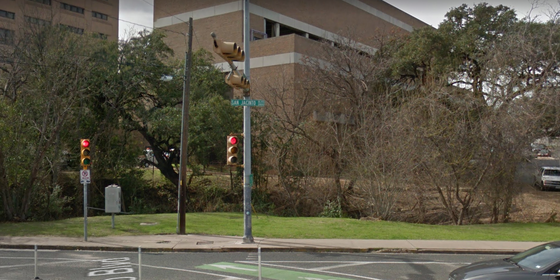street name sign: (222, 94, 270, 109)
